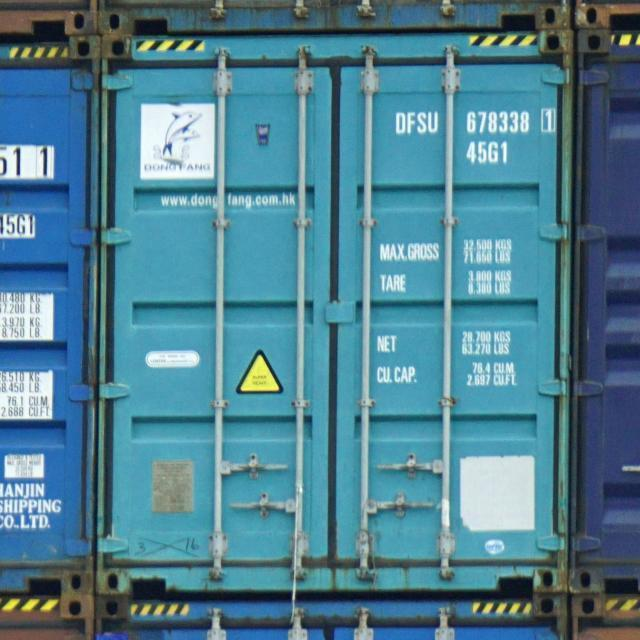container_number: (393, 107, 560, 135), (464, 136, 511, 165)
